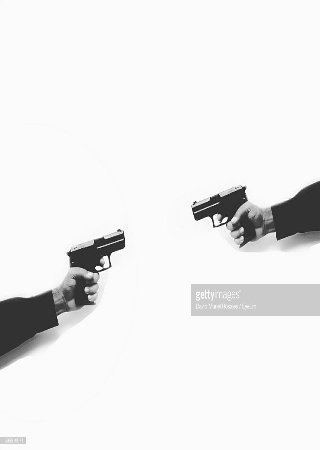handgun: (59, 221, 127, 309), (188, 178, 259, 245)
